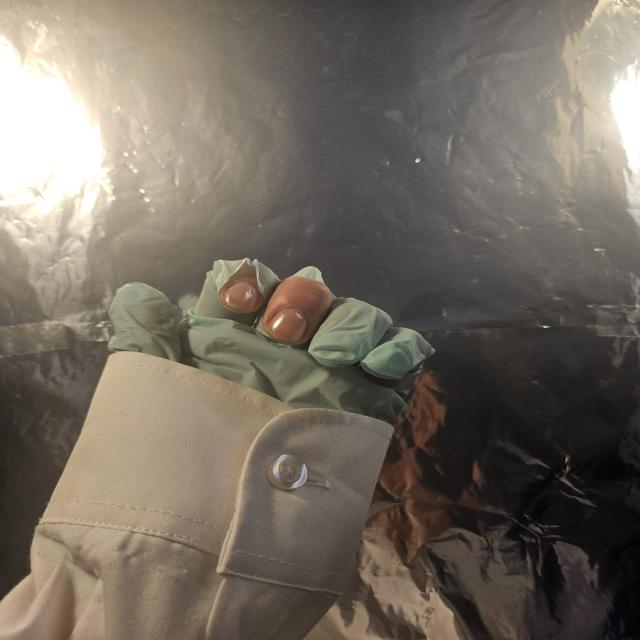gloves_damaged: (104, 256, 440, 427)
